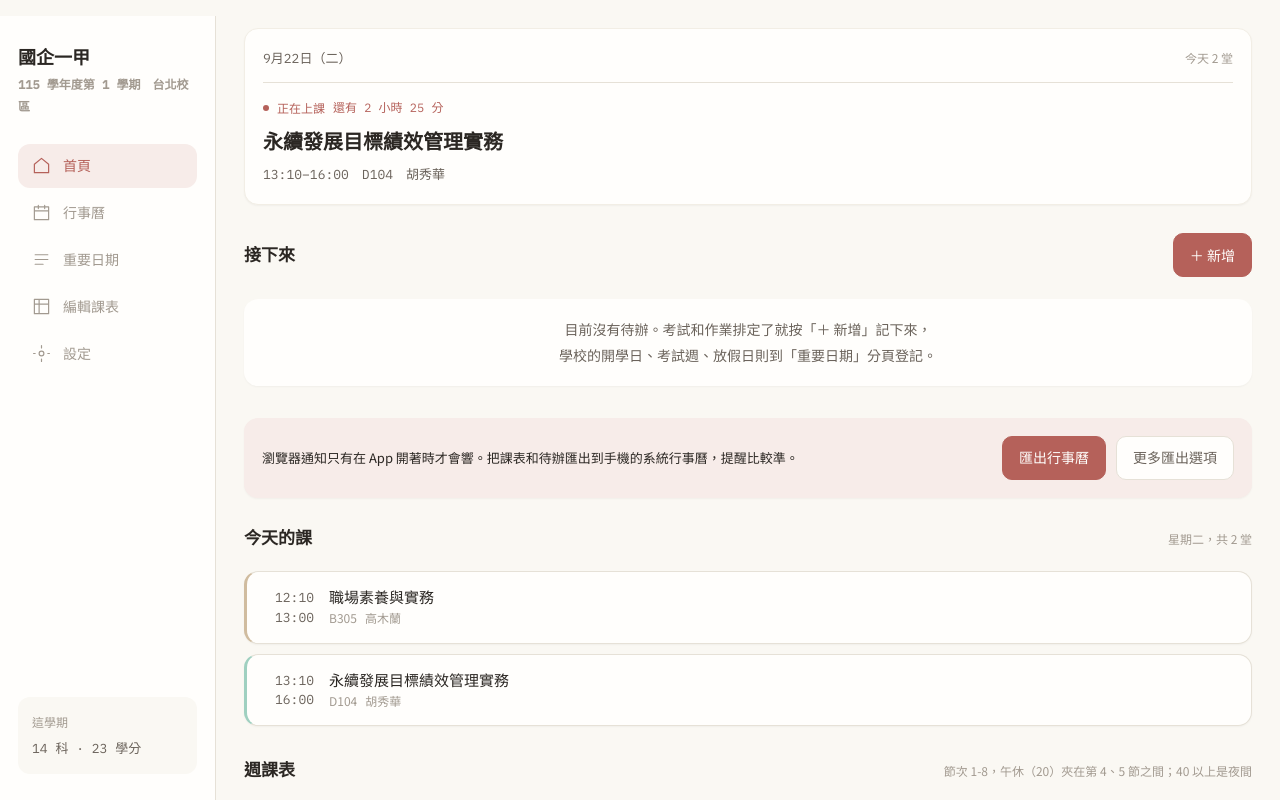
Test case: 新增學校重要日期 › 結束日早於開始日會被擋下並說明
This screenshot has width=1280, height=800.
Click the button "重要日期" at (108, 260), box [18,238,197,282]
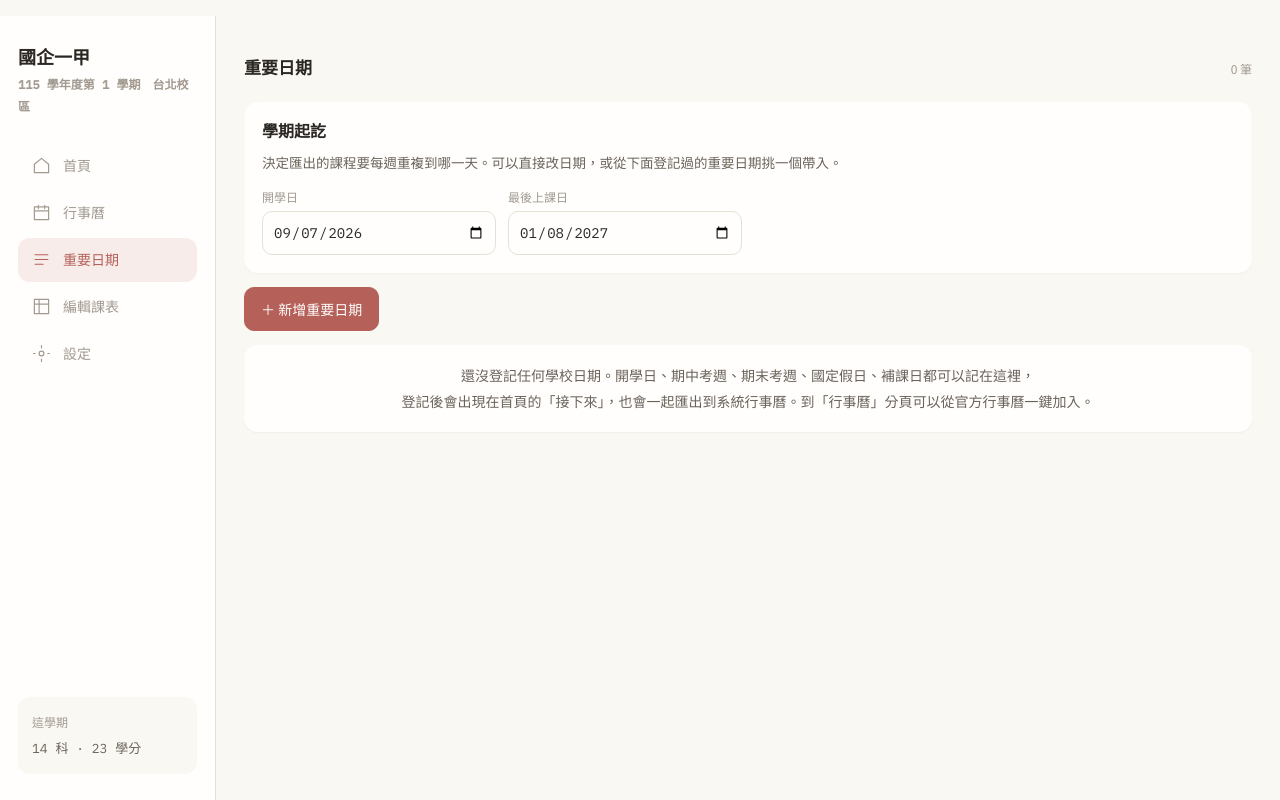
Click the button "＋ 新增重要日期" at (312, 309), box [244,287,379,331]
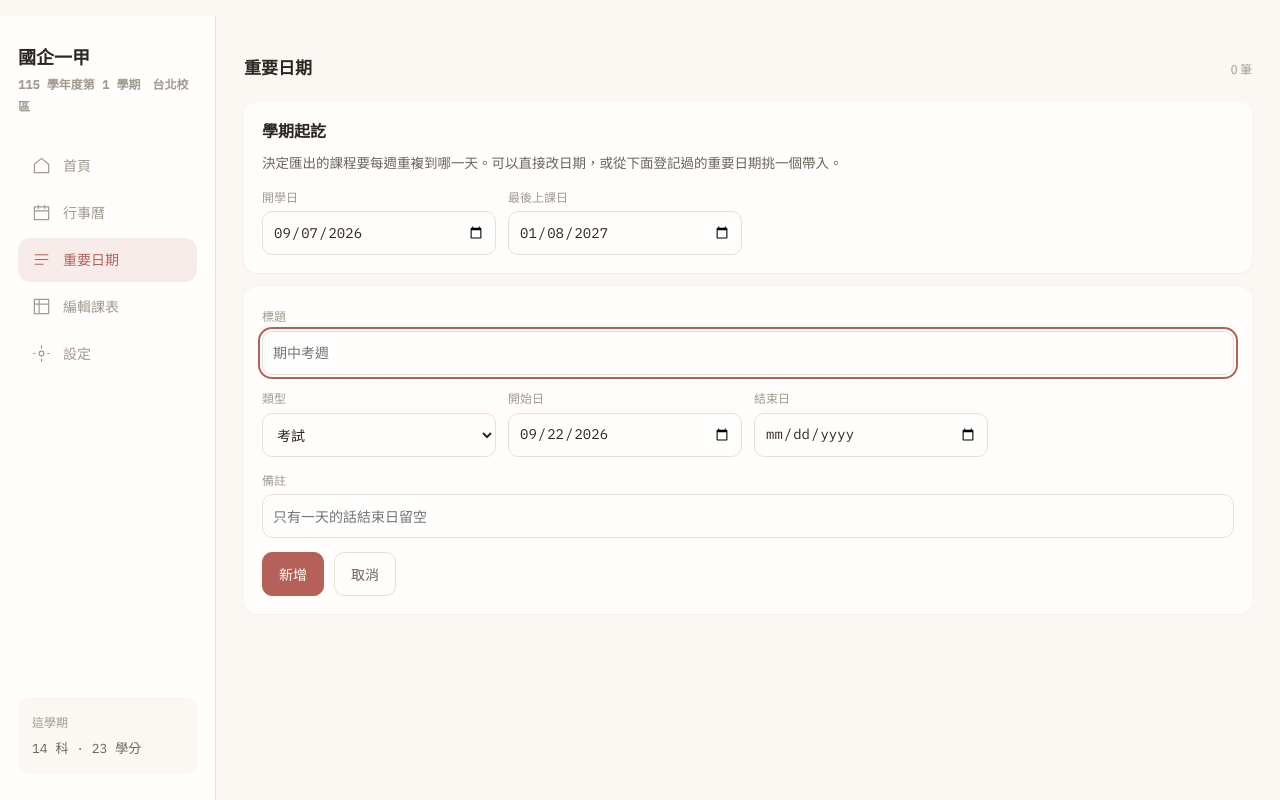
Type "亂填的" into the field labelled "標題" at (748, 353), box [262,331,1234,375]
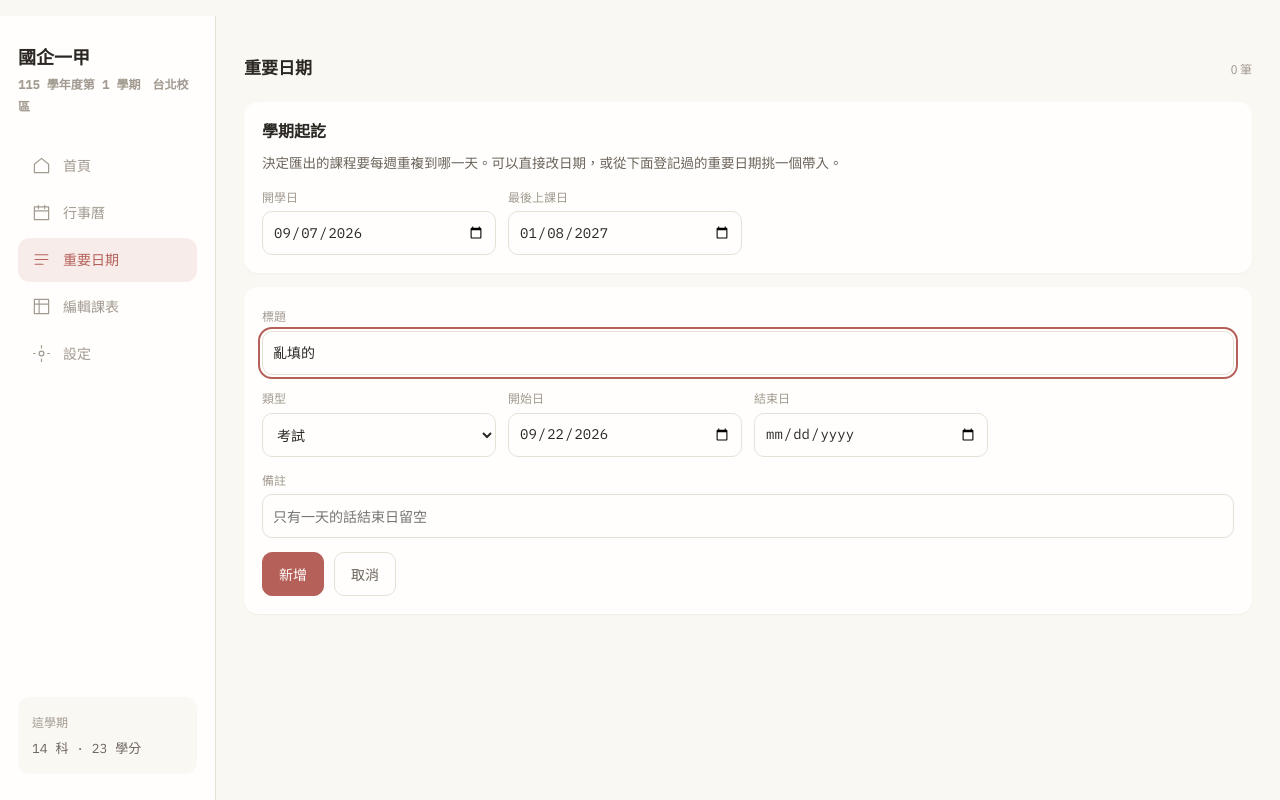
Type "2026-11-13" into the date field labelled "開始日" at (625, 435), box [508,413,742,457]
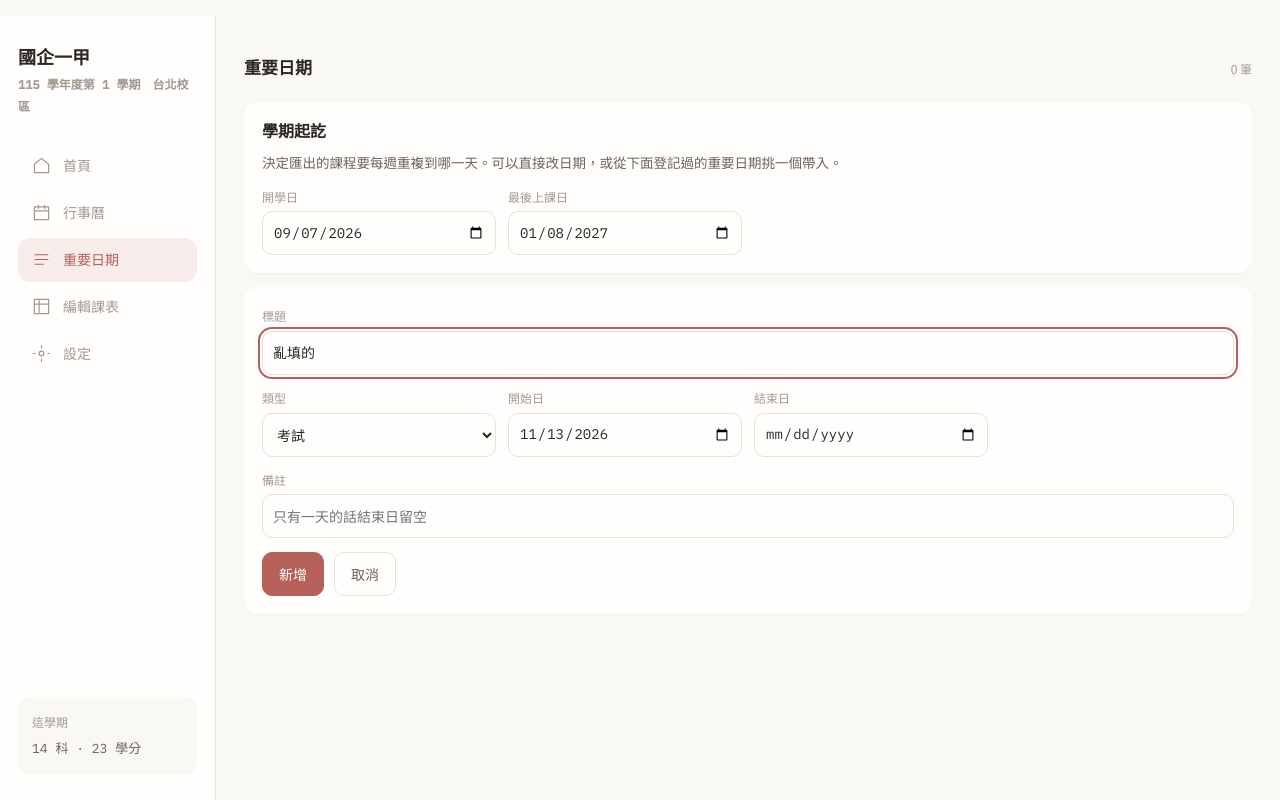
Type "2026-11-09" into the date field labelled "結束日" at (871, 435), box [754,413,988,457]
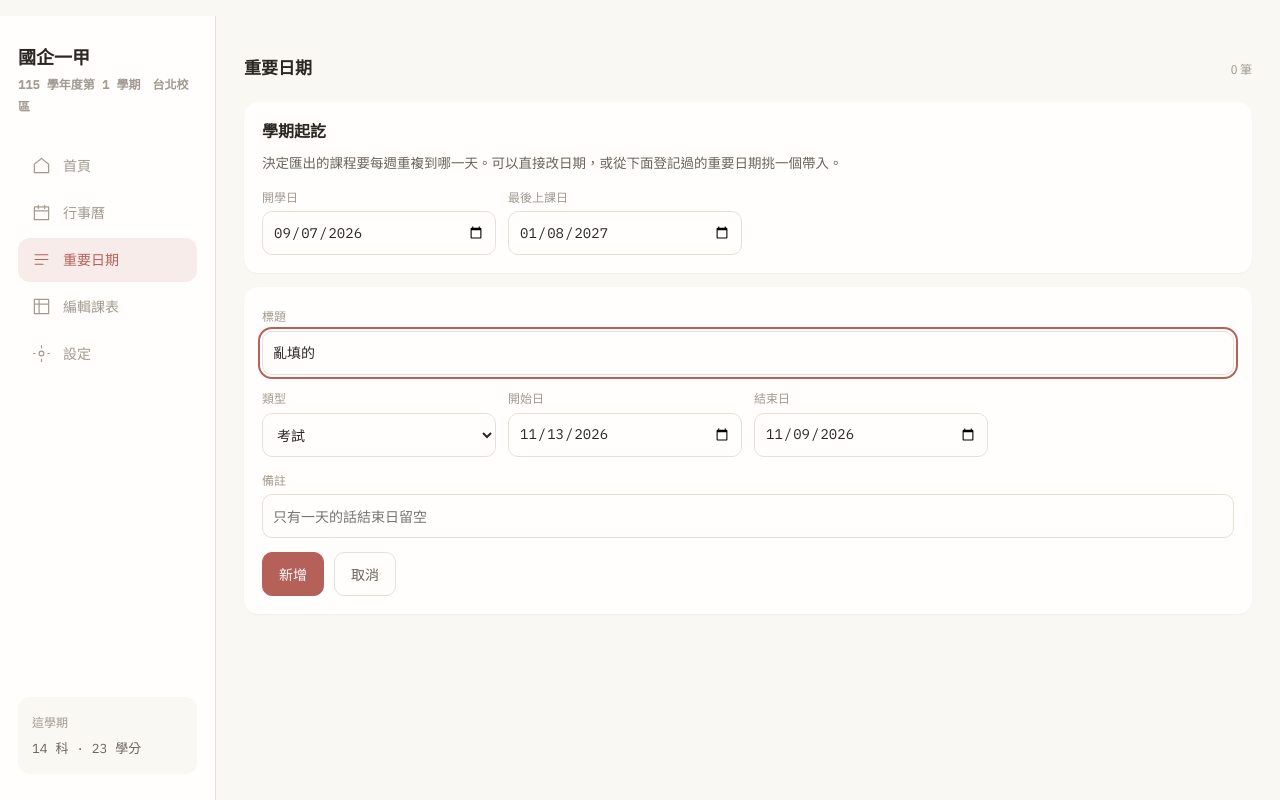
Click the button "新增" at (293, 574), box [262,552,324,596]
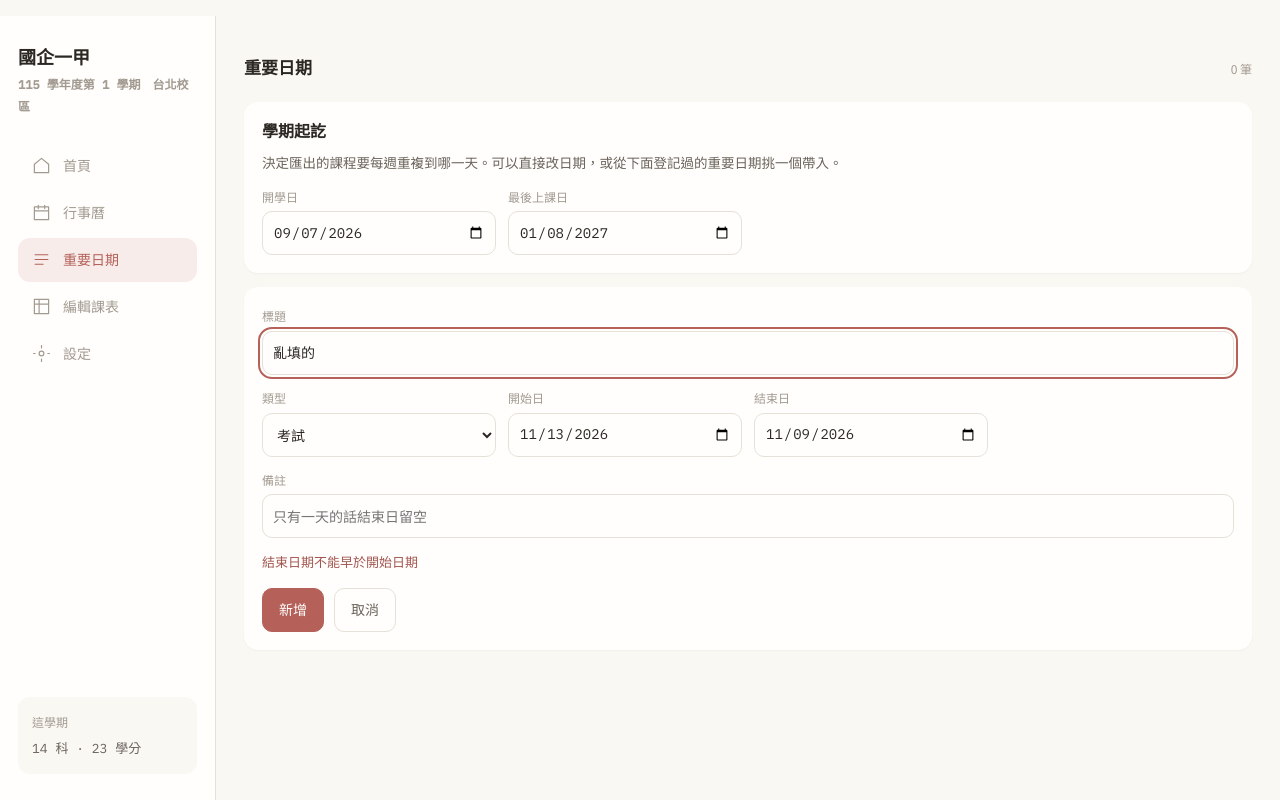
Check: the message reads "結束日期不能早於開始日期", box [262,552,418,571]
